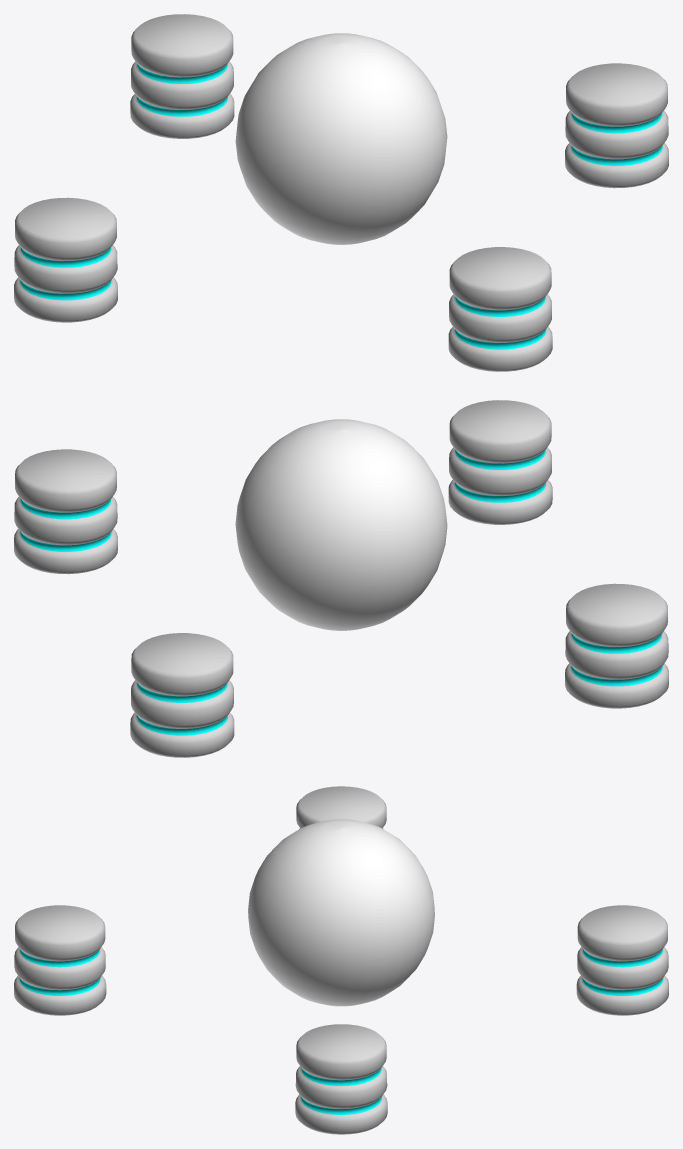
File: escena1.gltf
3 views of the same model, one above another, from view 1: azimuth 30°, elevation 25°; view 2: azimuth 150°, elevation 25°; view 3: azimuth 270°, elevation 25° (orthographic). The views are drawn at different scales.
Parts seen in each view (by area): view 1: Sphere, Cylinder.000, Cylinder.002, Cylinder.001, Cylinder.003; view 2: Sphere, Cylinder.002, Cylinder.000, Cylinder.001, Cylinder.003; view 3: Sphere, Cylinder.001, Cylinder.000, Cylinder.002, Cylinder.003.
Boxes of the visible parts, box(x1,y1,x2,y2) form: Sphere: box(235, 33, 447, 244); Cylinder.000: box(448, 247, 552, 371); Cylinder.002: box(130, 14, 234, 138); Cylinder.001: box(565, 63, 668, 188); Cylinder.003: box(14, 197, 117, 322); Sphere: box(235, 419, 447, 630); Cylinder.002: box(130, 633, 234, 757); Cylinder.000: box(448, 400, 552, 524); Cylinder.001: box(14, 449, 117, 574); Cylinder.003: box(565, 583, 668, 708); Sphere: box(248, 819, 434, 1006); Cylinder.001: box(295, 1024, 387, 1134); Cylinder.000: box(14, 905, 106, 1015); Cylinder.002: box(576, 905, 668, 1015); Cylinder.003: box(296, 786, 386, 829).
Bounding box in the file's own units: 13.97 × 3.98 × 13.97.
Materials: 2 (1 with a texture image).
